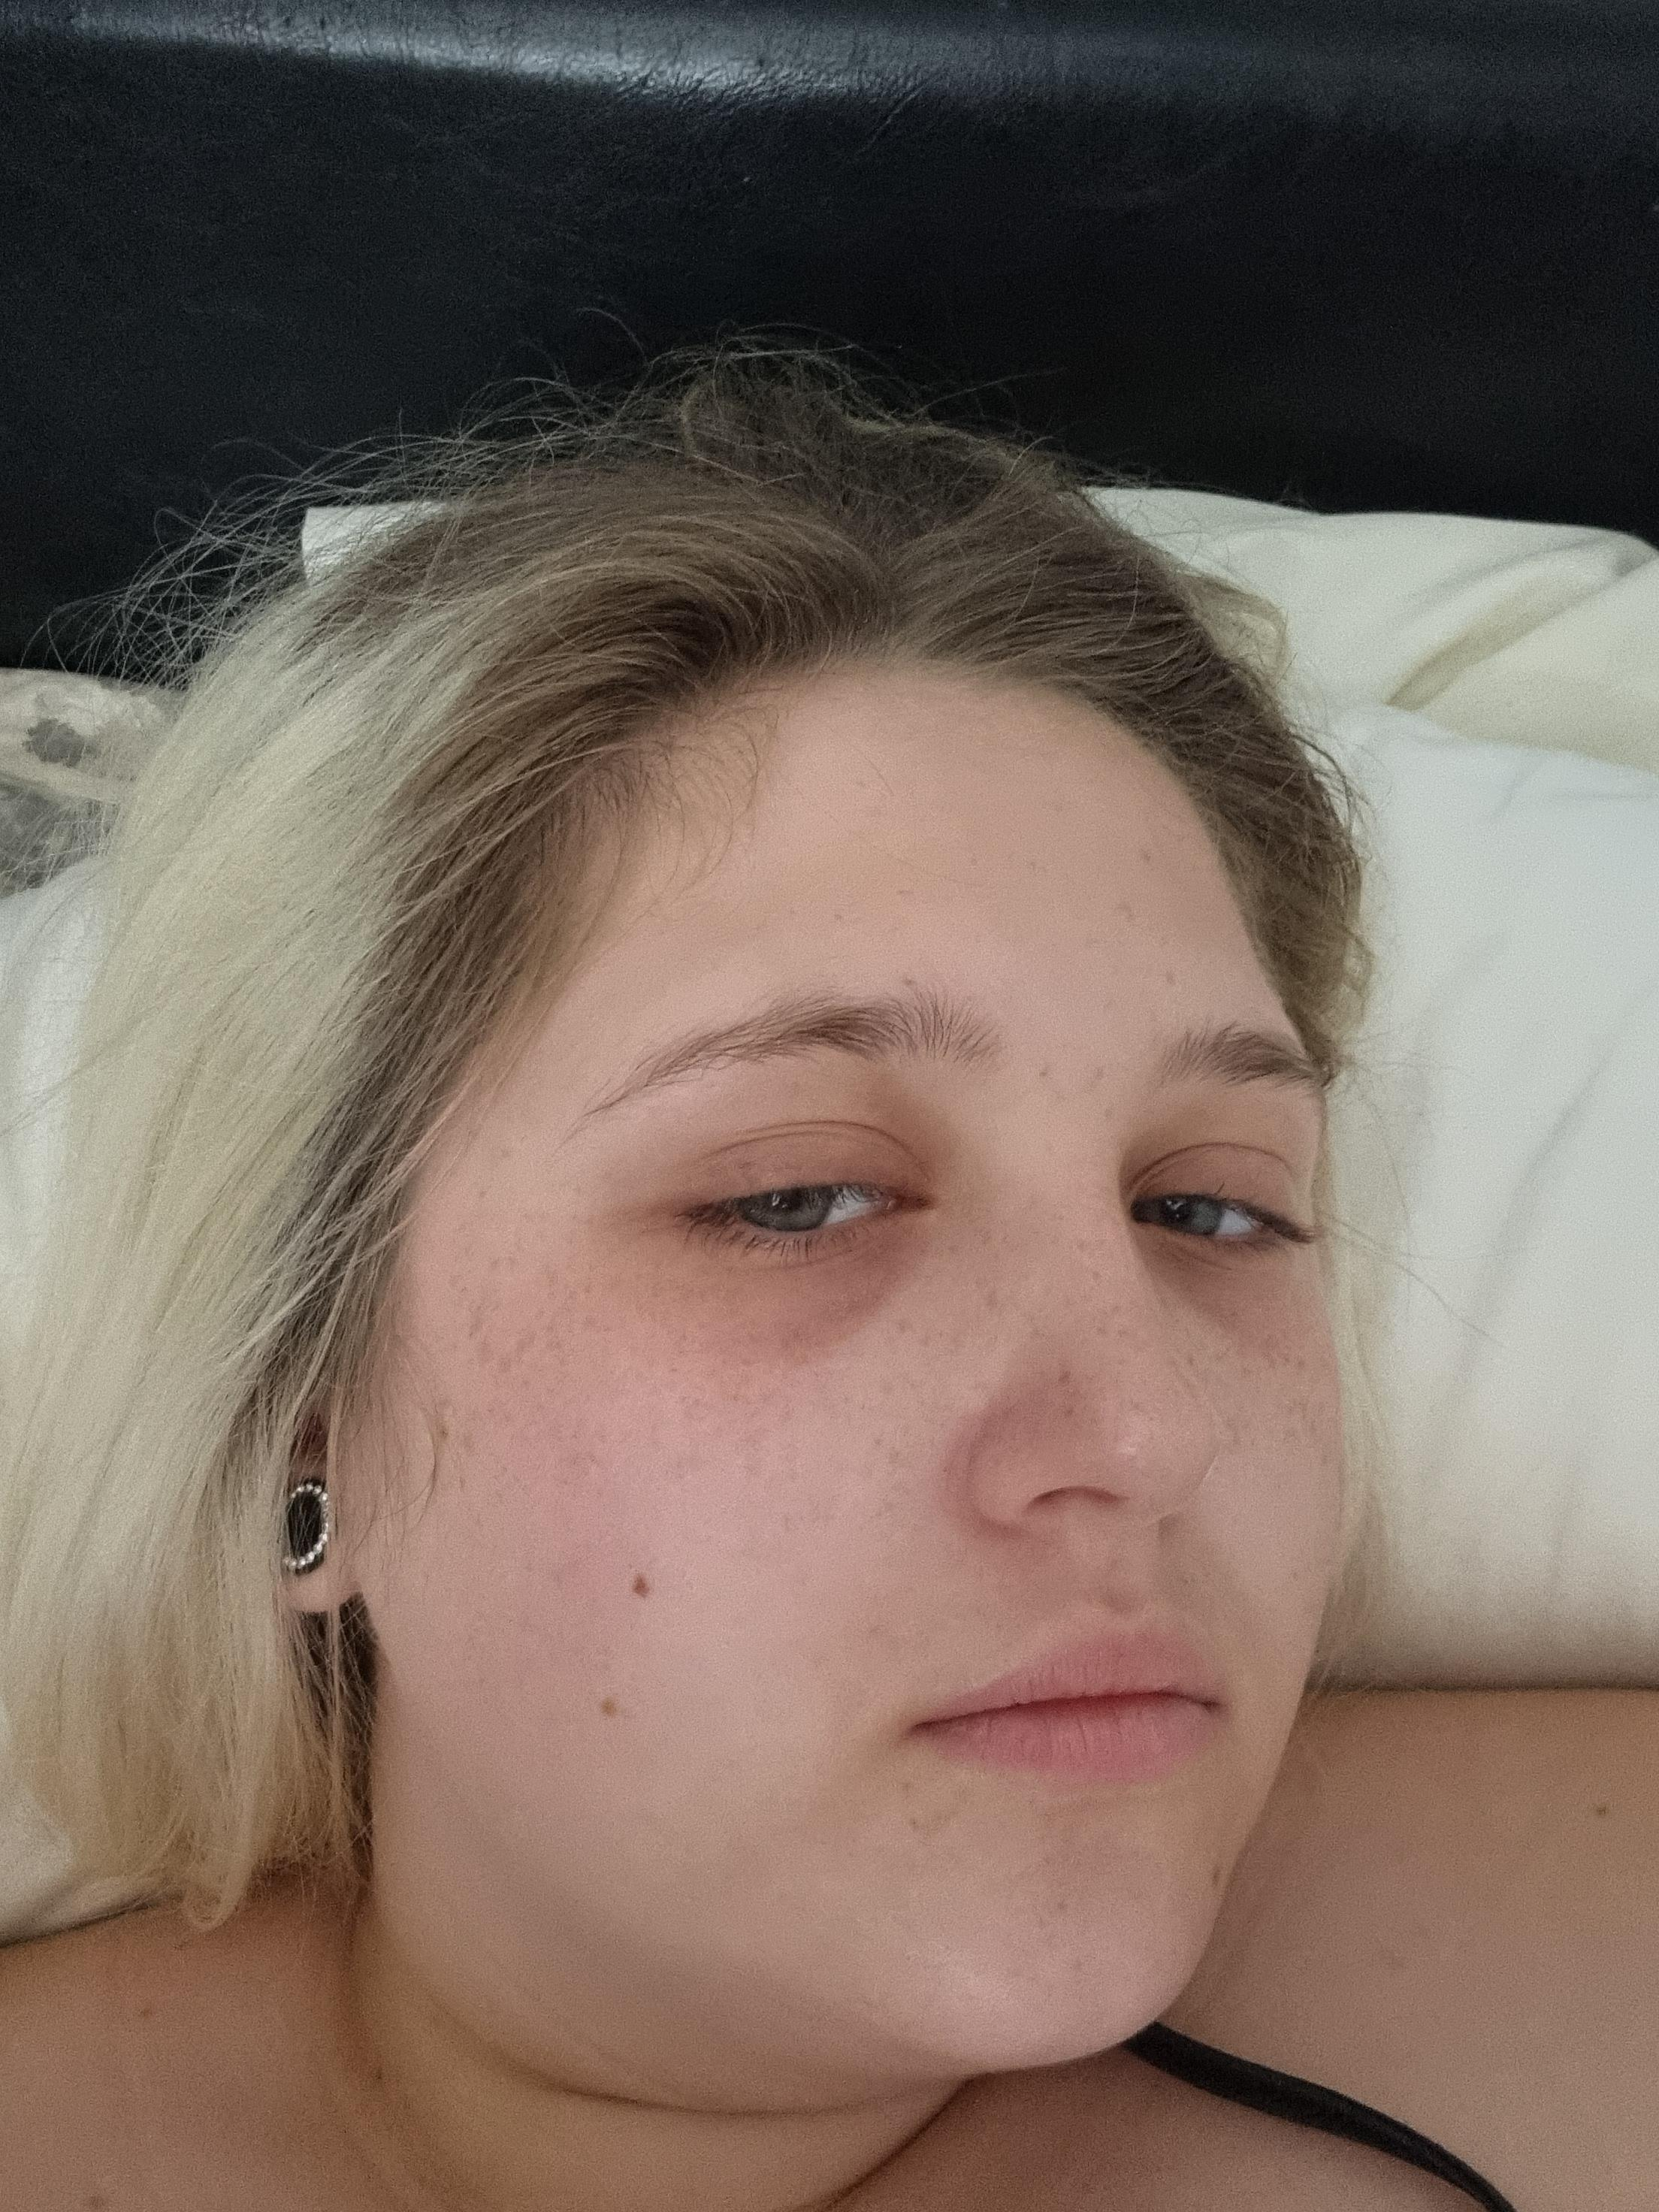Acne: (1138, 848, 1152, 866)
Eyebags: (613, 1200, 936, 1376), (1129, 1209, 1323, 1353)
